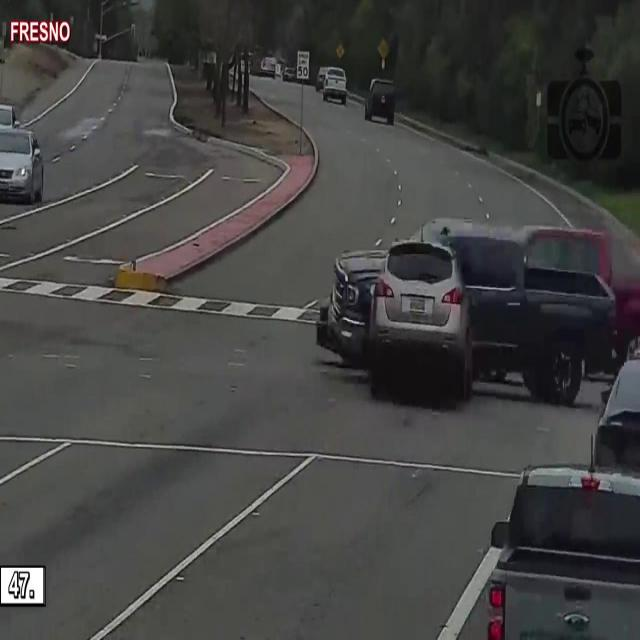accident: (304, 195, 619, 433)
